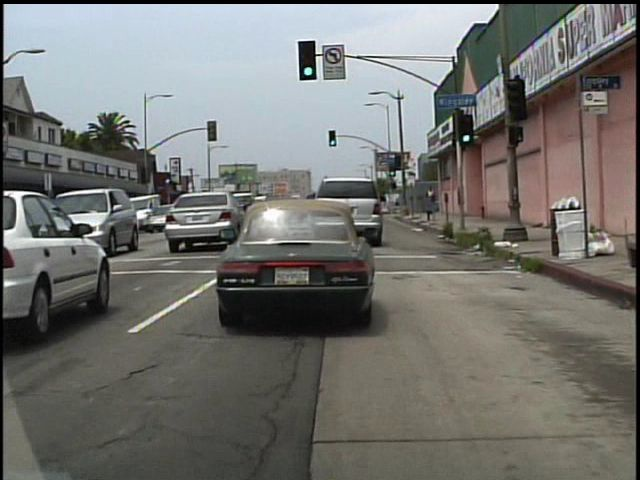person: (423, 183, 437, 213)
